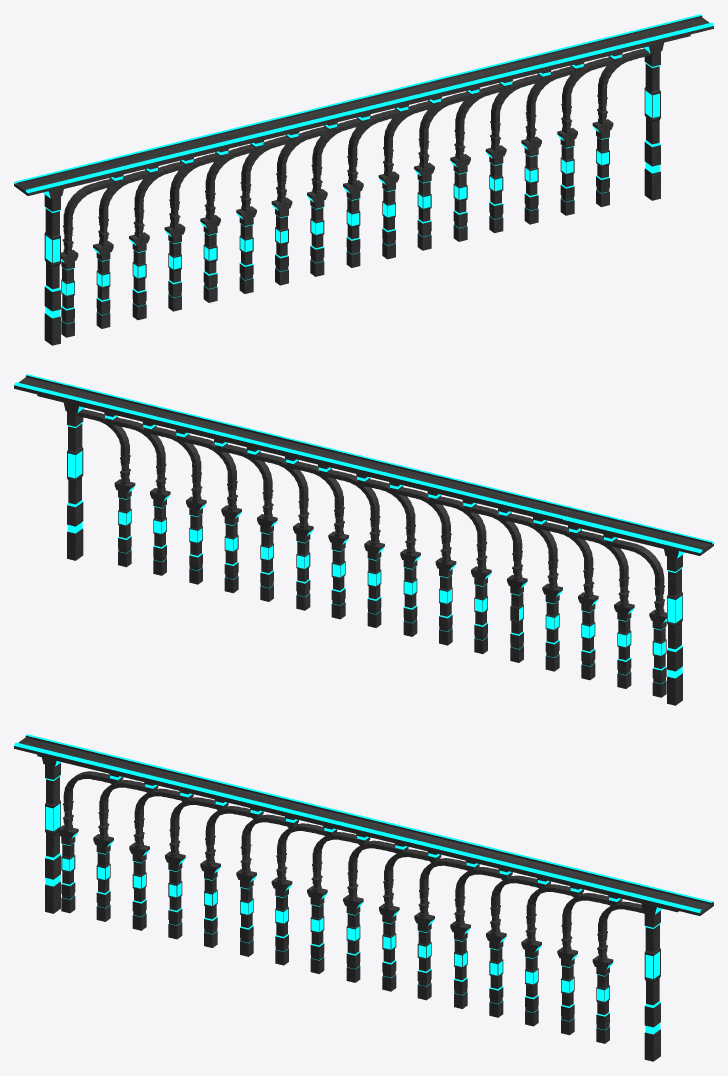
Rendered from ARCH_textured.fbx.
3 views of the same model, one above another, from view 1: azimuth 30°, elevation 25°; view 2: azimuth 150°, elevation 25°; view 3: azimuth 330°, elevation 25° (orthographic).
Parts seen in each view (by area): view 1: Cube.014, Cube.044, Cube.043, Cube.013, Cube.036, Cube.041, Cube.035, Cube.042, Cube.049, Cube.050, Cube.038, Cube.037 (+24 smaller); view 2: Cube.014, Cube.043, Cube.044, Cube.013, Cube.039, Cube.041, Cube.042, Cube.046, Cube.035, Cube.036, Cube.051, Cube.050 (+24 smaller); view 3: Cube.014, Cube.043, Cube.044, Cube.013, Cube.041, Cube.039, Cube.042, Cube.046, Cube.017, Cube.036, Cube.035, Cube.050 (+24 smaller).
Part boxes in pixels (x1,y1,x2,y2): Cube.014: (14,14,713,195); Cube.044: (43,189,63,345); Cube.043: (643,42,663,200); Cube.013: (49,34,690,192); Cube.036: (129,232,149,320); Cube.041: (307,189,327,276); Cube.035: (93,241,113,328); Cube.042: (343,180,363,267); Cube.049: (450,154,470,241); Cube.050: (414,162,434,250); Cube.038: (200,215,220,302); Cube.037: (236,206,256,293); Cube.014: (14,374,713,555); Cube.043: (64,402,84,560); Cube.044: (664,549,684,705); Cube.013: (37,394,678,552); Cube.039: (542,583,562,671); Cube.041: (400,549,420,636); Cube.042: (364,540,384,627); Cube.046: (221,505,241,593); Cube.035: (614,601,634,688); Cube.036: (578,592,598,680); Cube.051: (328,531,348,619); Cube.050: (293,522,313,610); Cube.014: (14,734,713,915); Cube.043: (641,903,662,1061); Cube.044: (42,757,61,913); Cube.013: (37,754,678,912); Cube.041: (307,886,327,973); Cube.039: (165,851,185,939); Cube.042: (343,895,363,982); Cube.046: (486,929,506,1017); Cube.017: (57,825,78,913); Cube.036: (129,842,149,930); Cube.035: (93,834,113,921); Cube.050: (414,912,434,1000).
Size of the model in its own units: 125203 by 28786 by 4402.
